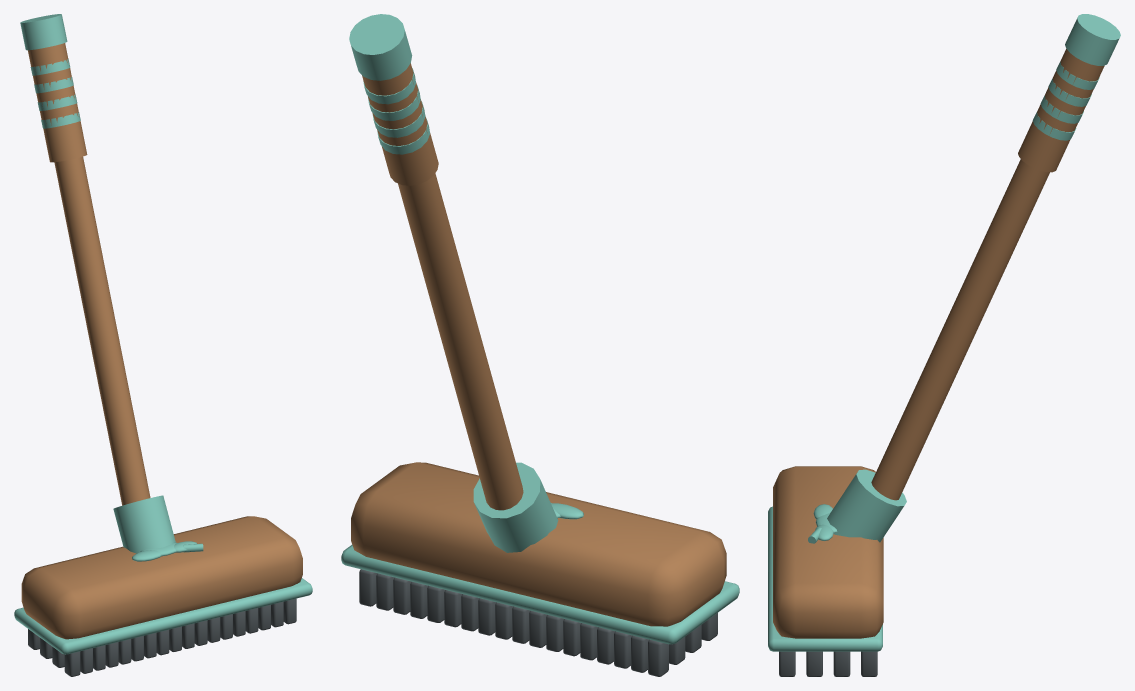
The model's file is tier_5_cloud_lacquer.glb.
3 renders of one model, left to right at view 1: azimuth 30°, elevation 25°; view 2: azimuth 150°, elevation 25°; view 3: azimuth 270°, elevation 25°, orthographic. The views are drawn at different scales.
Visible parts, largest first — view 1: BrushTier5_Cloud; view 2: BrushTier5_Cloud; view 3: BrushTier5_Cloud.
Part boxes in pixels (<box>): BrushTier5_Cloud: <box>14,14,312,676</box>; BrushTier5_Cloud: <box>341,14,739,676</box>; BrushTier5_Cloud: <box>768,14,1120,676</box>.
Bounding box in the file's own units: 0.79 × 1.61 × 0.8603.
